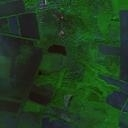alloviz: (46, 43, 68, 57)
